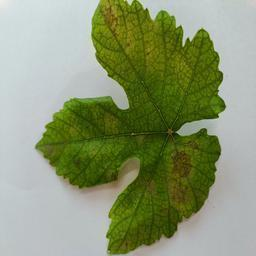Powdery-Mildew: (161, 151, 194, 203), (97, 0, 130, 32), (142, 176, 159, 193), (65, 125, 82, 141)
